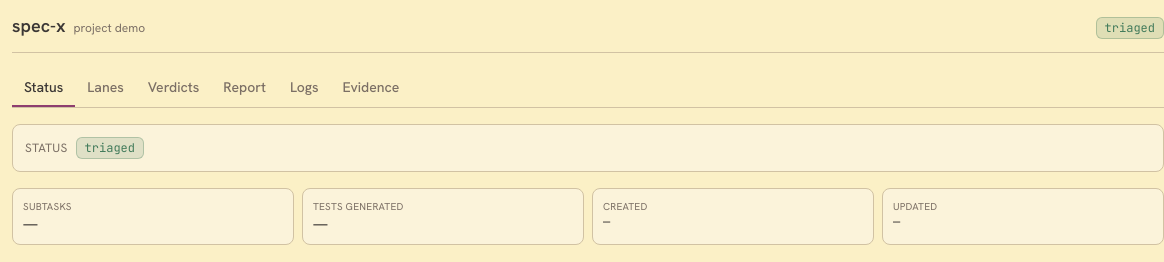
Test: <PFactoryTaskDetail> report tab › lazy-fetches the markdown and renders it on tab open
This screenshot has width=1164, height=262.
Click the tab with test id "tab-report": (245, 88) [211,69,278,107]
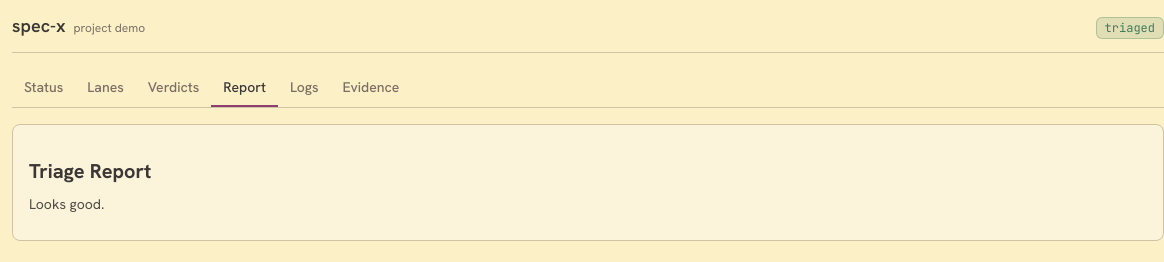
Expected: the element with test id "report-md-content" is shown, [12,124,1163,241]
Expected: the element with test id "report-md-content" shows "Triage Report", [29,158,151,184]
Expected: the element with test id "report-md-content" shows "Looks good.", [29,195,104,213]
